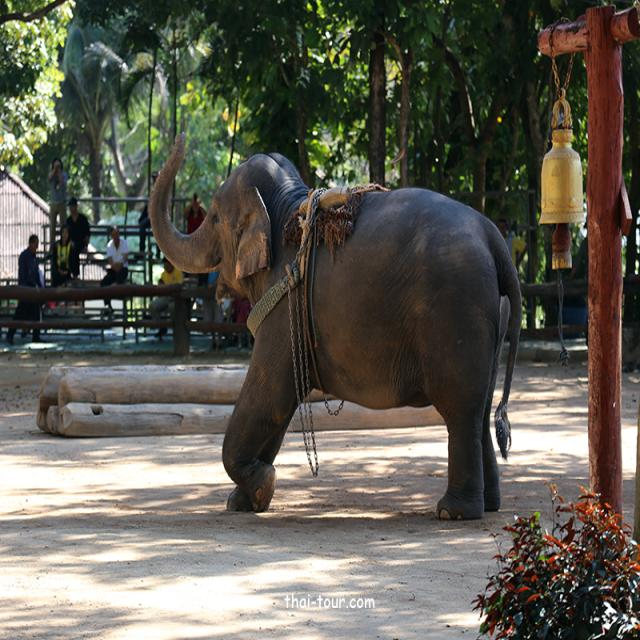Elephant: (142, 91, 525, 560)
